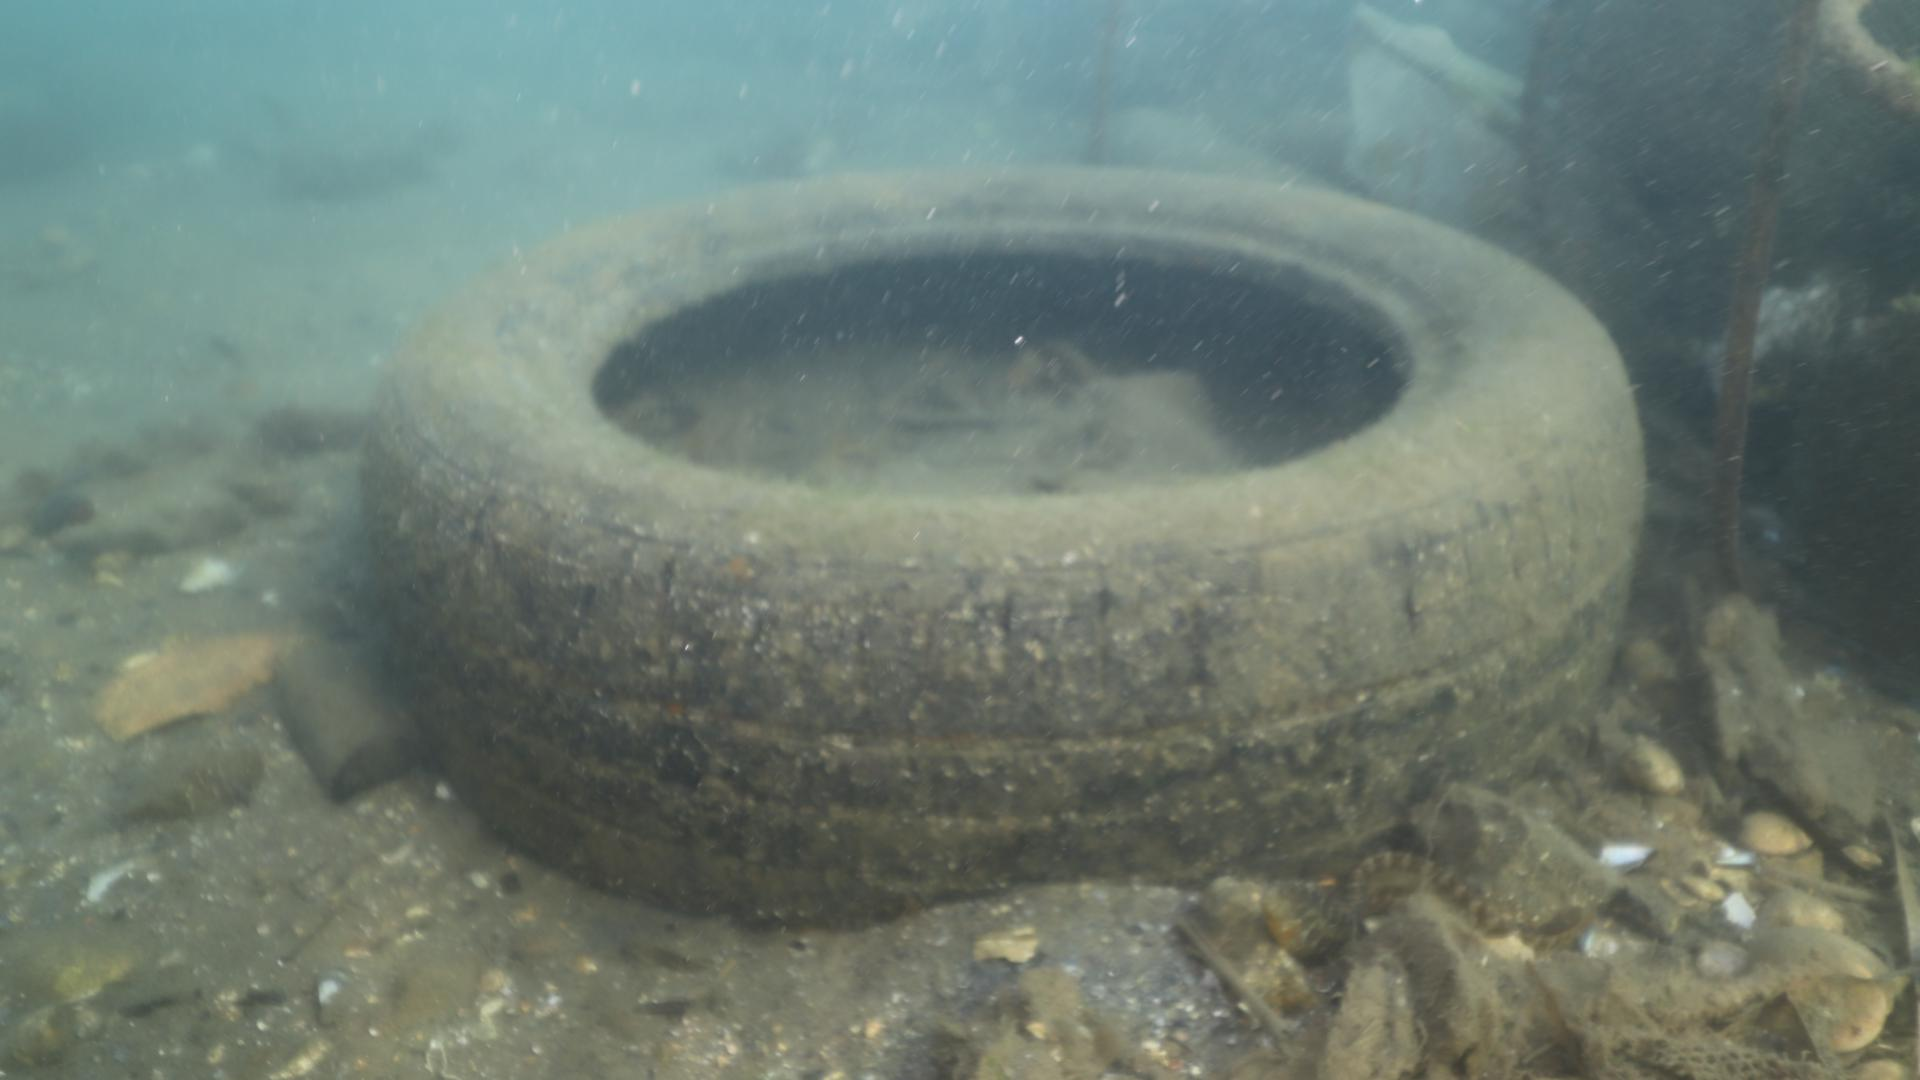tire: (363, 162, 1646, 935)
